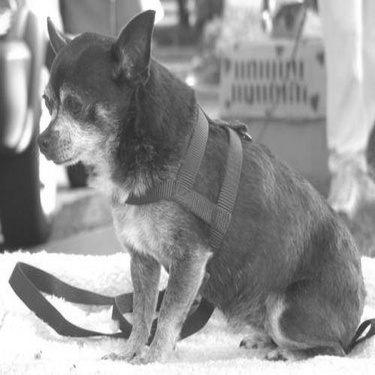dog: (23, 8, 370, 368)
